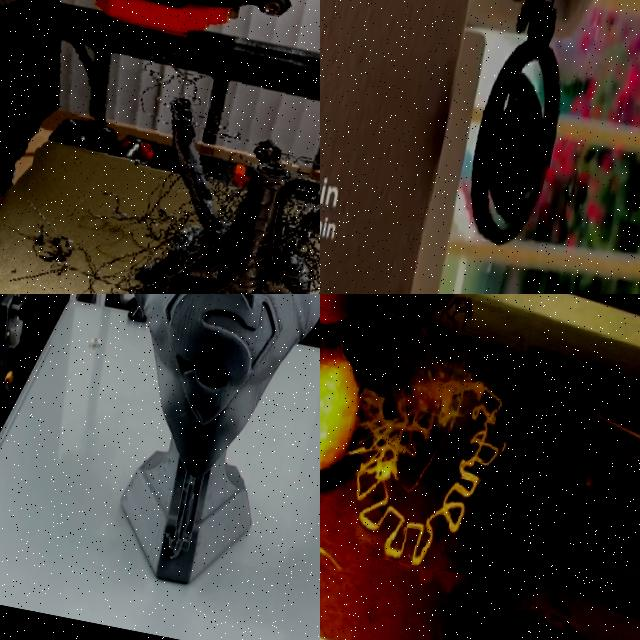spaghetti: (19, 6, 320, 294), (343, 307, 504, 567)
